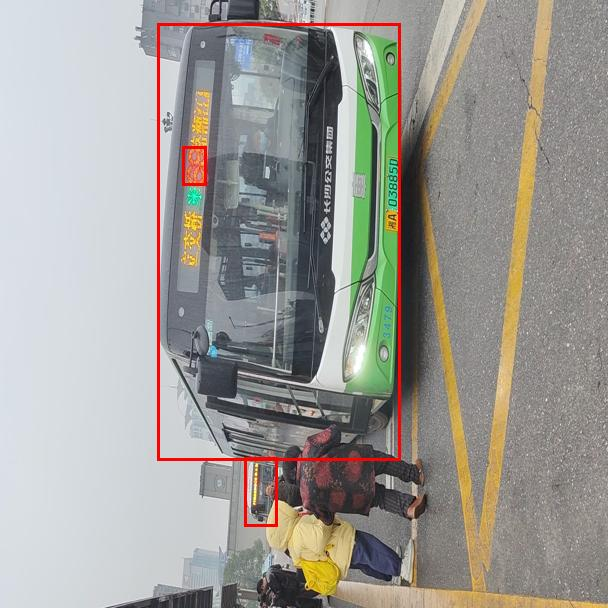bus: (157, 23, 400, 460), (244, 457, 277, 526)
screen: (182, 146, 206, 185)
